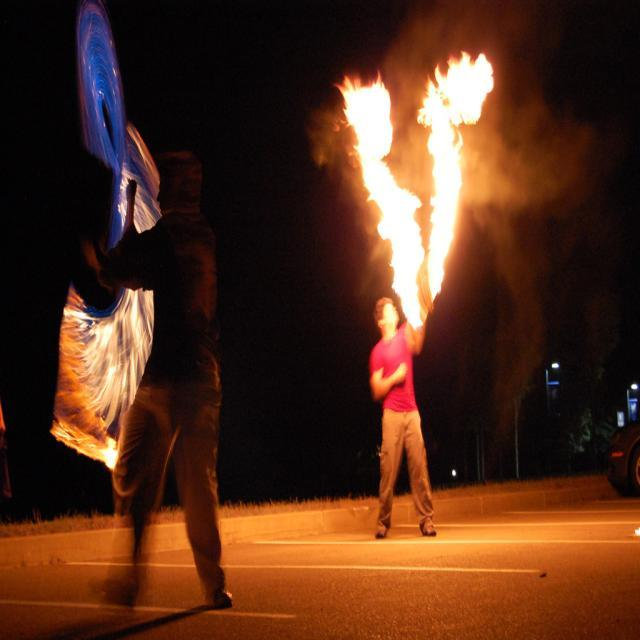Fire: (346, 86, 392, 154)
